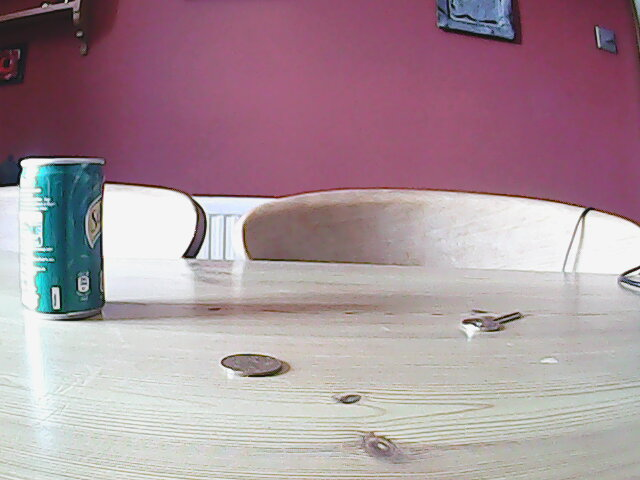Can: (16, 156, 111, 323)
Coin: (220, 351, 288, 379)
Key: (457, 310, 524, 338)
